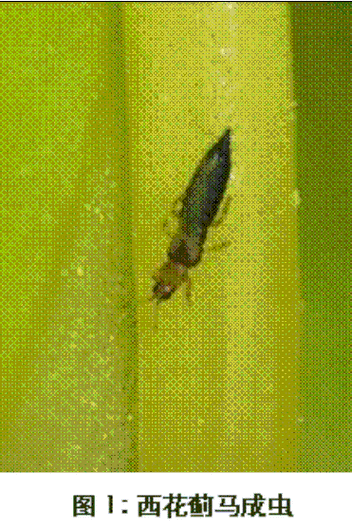Thripidae: (147, 124, 234, 312)
